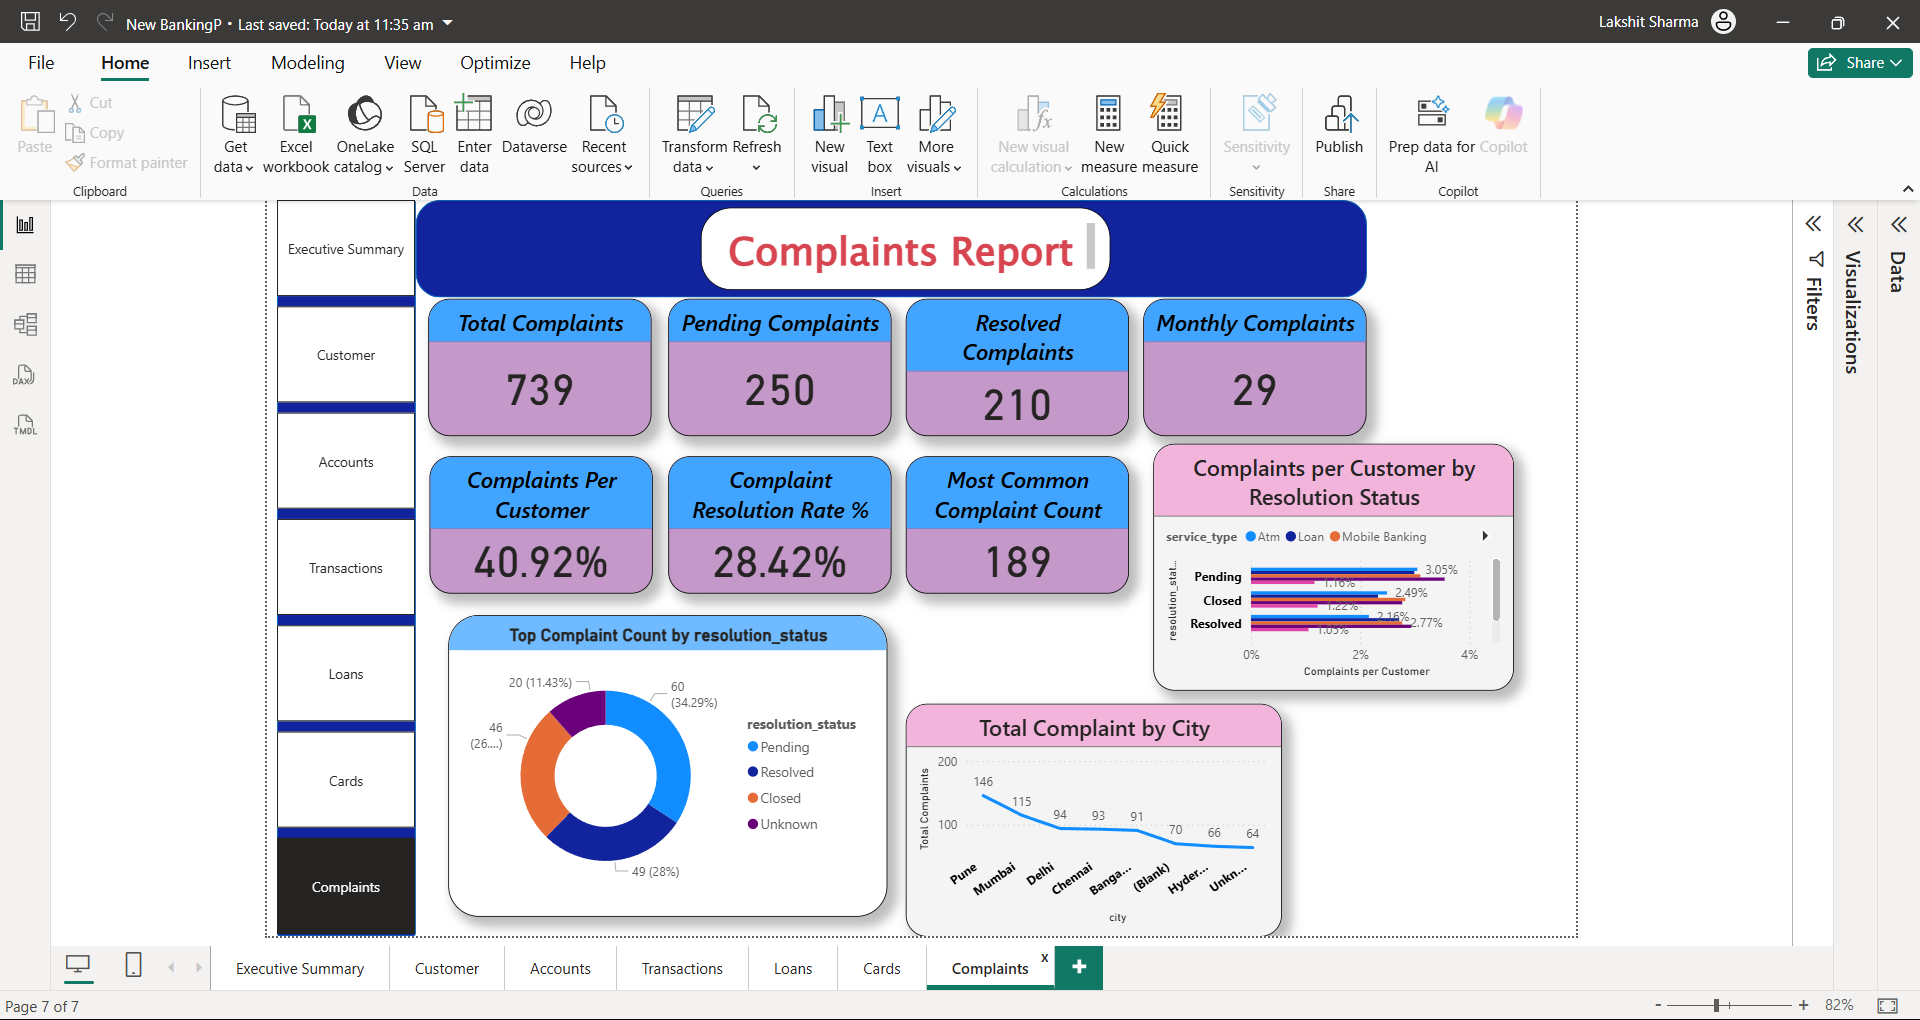

The page's visual inventory and layout, read from the dashboard file:
{"tool":"powerbi","page":{"name":"Complaints","canvas":[1280,720],"ordinal":6},"visuals":[{"type":"card","title":"Total Complaints","fields":{"Values":["All Measures.Total Complaints"]},"box":[157.8,96.1,218.2,134.5],"z":0},{"type":"card","title":"Pending Complaints","fields":{"Values":["All Measures.Pending Complaints"]},"box":[392.5,96.1,218.2,134.5],"z":1000},{"type":"card","title":"Resolved Complaints","fields":{"Values":["All Measures.Resolved Complaints"]},"box":[624.4,96.1,218.2,134.5],"z":2000},{"type":"card","title":"Complaint Resolution Rate %","fields":{"Values":["All Measures.Complaint Resolution Rate %"]},"box":[392.5,251.1,218.2,134.5],"z":3000},{"type":"card","title":"Complaints Per Customer","fields":{"Values":["All Measures.Complaints per Customer"]},"box":[159.2,251.1,218.2,134.5],"z":4000},{"type":"card","title":"Monthly Complaints","fields":{"Values":["All Measures.Monthly Complaints"]},"box":[857.6,96.1,218.2,134.5],"z":5000},{"type":"card","title":"Most Common Complaint Count","fields":{"Values":["All Measures.Top Complaint Count"]},"box":[624.4,251.1,218.2,134.5],"z":6000},{"type":"shape","box":[145.5,0,930.6,95.4],"z":7000},{"type":"shape","box":[9.8,0,135.7,720.2],"z":8000},{"type":"textbox","box":[424,6.9,400.7,81],"z":9000},{"type":"pageNavigator","box":[9.6,0,135.8,720.4],"z":10000},{"type":"clusteredBarChart","title":"Complaints per Customer by Resolution Status","fields":{"Y":["All Measures.Complaints per Customer"],"Category":["complaints.resolution_status"],"Series":["complaints.service_type"]},"box":[867.2,238.8,352.7,241.5],"z":11000},{"type":"donutChart","fields":{"Y":["All Measures.Top Complaint Count"],"Category":["complaints.resolution_status"]},"box":[177,406.2,429.5,295],"z":12000},{"type":"lineChart","title":"Total Complaint by City","fields":{"Y":["All Measures.Total Complaints"],"Category":["customers.city"]},"box":[624.4,492.6,367.8,227.8],"z":13000}]}

Visuals, with their boxes on the page's 1280x720 design canvas (x1, y1, x2, y2). These are canvas units, not pixel positions in the 1920x1020 screenshot, which may show the page scaled, cropped or inside an application window:
"Total Complaints" card: detection(158, 96, 376, 231)
"Pending Complaints" card: detection(392, 96, 611, 231)
"Resolved Complaints" card: detection(624, 96, 843, 231)
"Complaint Resolution Rate %" card: detection(392, 251, 611, 386)
"Complaints Per Customer" card: detection(159, 251, 377, 386)
"Monthly Complaints" card: detection(858, 96, 1076, 231)
"Most Common Complaint Count" card: detection(624, 251, 843, 386)
shape: detection(146, 0, 1076, 95)
shape: detection(10, 0, 146, 720)
textbox: detection(424, 7, 825, 88)
pageNavigator: detection(10, 0, 145, 720)
"Complaints per Customer by Resolution Status" clusteredBarChart: detection(867, 239, 1220, 480)
donutChart - All Measures.Top Complaint Count x complaints.resolution_status: detection(177, 406, 606, 701)
"Total Complaint by City" lineChart: detection(624, 493, 992, 720)
